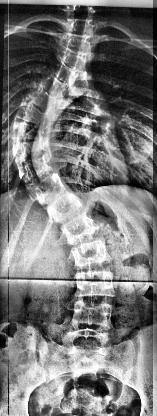Vertebrae: (69, 298, 117, 332), (41, 188, 85, 224), (60, 210, 102, 246), (70, 240, 113, 272), (23, 172, 67, 202), (72, 270, 116, 300), (22, 83, 62, 114), (14, 98, 54, 126), (14, 158, 57, 184), (7, 136, 47, 162), (6, 118, 48, 142), (47, 74, 81, 100), (60, 46, 92, 72), (61, 32, 93, 56), (57, 60, 85, 86), (66, 17, 98, 38)
